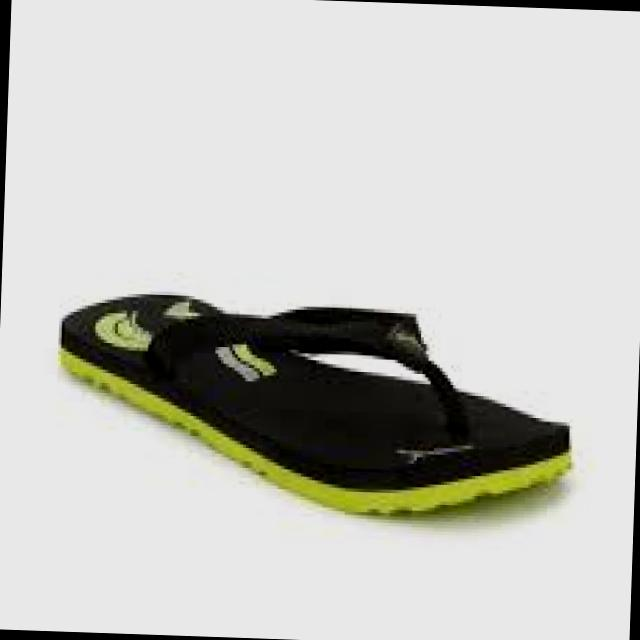giay: (60, 294, 572, 515)
